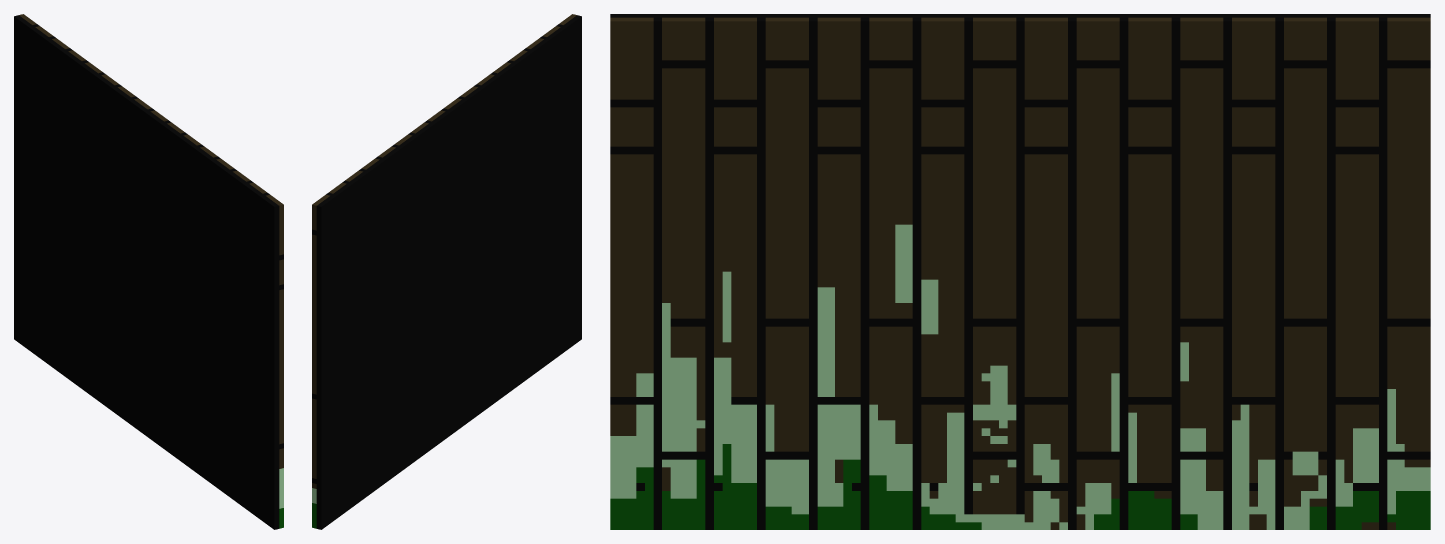
File: level1fwall.fbx
3 renders of one model, left to right at view 1: azimuth 30°, elevation 25°; view 2: azimuth 150°, elevation 25°; view 3: azimuth 270°, elevation 25°, orthographic. The views are drawn at different scales.
Parts seen in each view (by area): view 1: Untitled; view 2: Untitled; view 3: Untitled.
Boxes of the visible parts, x1,y1,x2,y2 form: Untitled: (14, 14, 283, 529); Untitled: (312, 14, 581, 529); Untitled: (610, 14, 1430, 529).
Bounding box in the file's own units: 0.2 × 6.5 × 9.5.
